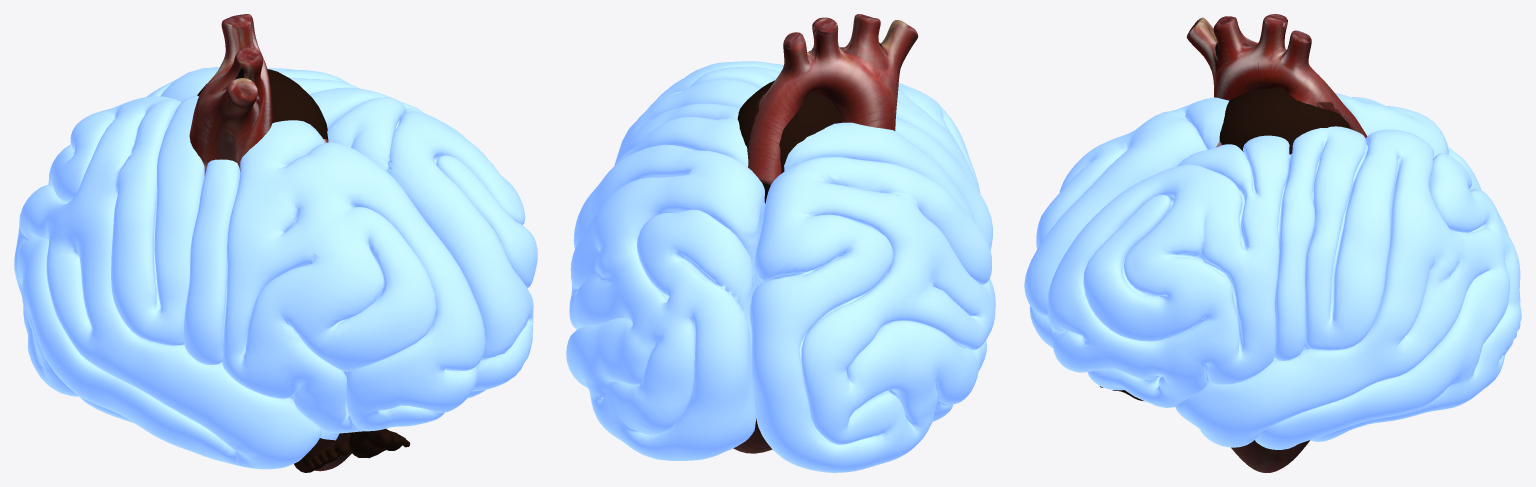
The model's file is HeroModels.glb.
3 renders of one model, left to right at view 1: azimuth 30°, elevation 25°; view 2: azimuth 150°, elevation 25°; view 3: azimuth 270°, elevation 25°, orthographic. The views are drawn at different scales.
Parts seen in each view (by area): view 1: Brian, Stylized Human Heart, Baby_ocl_SG_0; view 2: Brian, Stylized Human Heart, Baby_ocl_SG_0; view 3: Brian, Stylized Human Heart, Baby_ocl_SG_0.
Boxes of the visible parts, <box> form: Brian: <box>14,67,537,469</box>; Stylized Human Heart: <box>189,14,351,471</box>; Baby_ocl_SG_0: <box>197,69,409,472</box>; Brian: <box>566,61,995,472</box>; Stylized Human Heart: <box>733,14,918,453</box>; Baby_ocl_SG_0: <box>737,80,842,203</box>; Brian: <box>1024,93,1521,449</box>; Stylized Human Heart: <box>1187,14,1367,472</box>; Baby_ocl_SG_0: <box>1100,88,1350,400</box>.
Size of the model in its own units: 212 by 235 by 254.
Materials: 3 (1 with a texture image).
